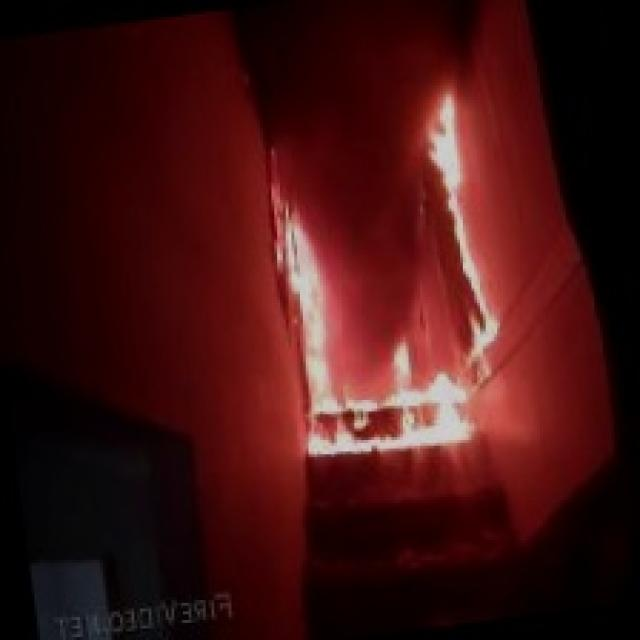fire: (229, 84, 517, 476)
